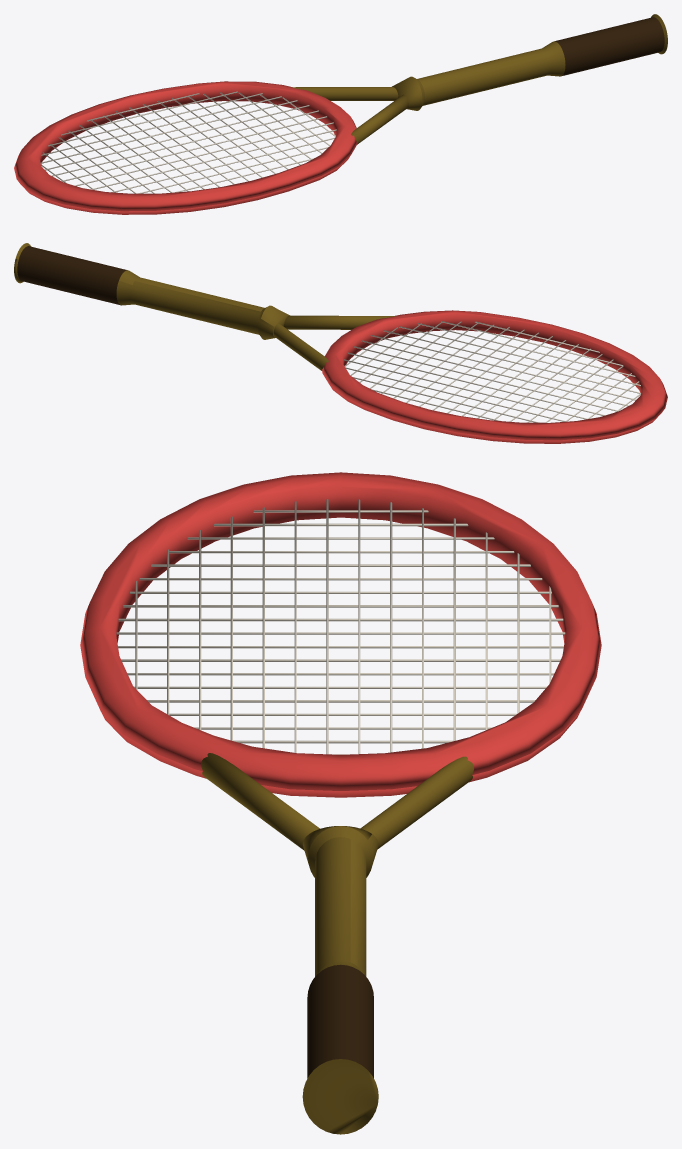
Rendered from Tennisschlaeger.fbx.
The picture shows the model from 3 angles, top to bottom: view 1: azimuth 30°, elevation 25°; view 2: azimuth 150°, elevation 25°; view 3: azimuth 270°, elevation 25°; orthographic projection. The views are drawn at different scales.
Parts seen in each view (by area): view 1: Cylinder.006; view 2: Cylinder.006; view 3: Cylinder.006.
Boxes of the visible parts, x1,y1,x2,y2 form: Cylinder.006: (14, 14, 667, 214); Cylinder.006: (14, 243, 667, 443); Cylinder.006: (80, 472, 601, 1134).
Size of the model in its own units: 70 by 4 by 25.
